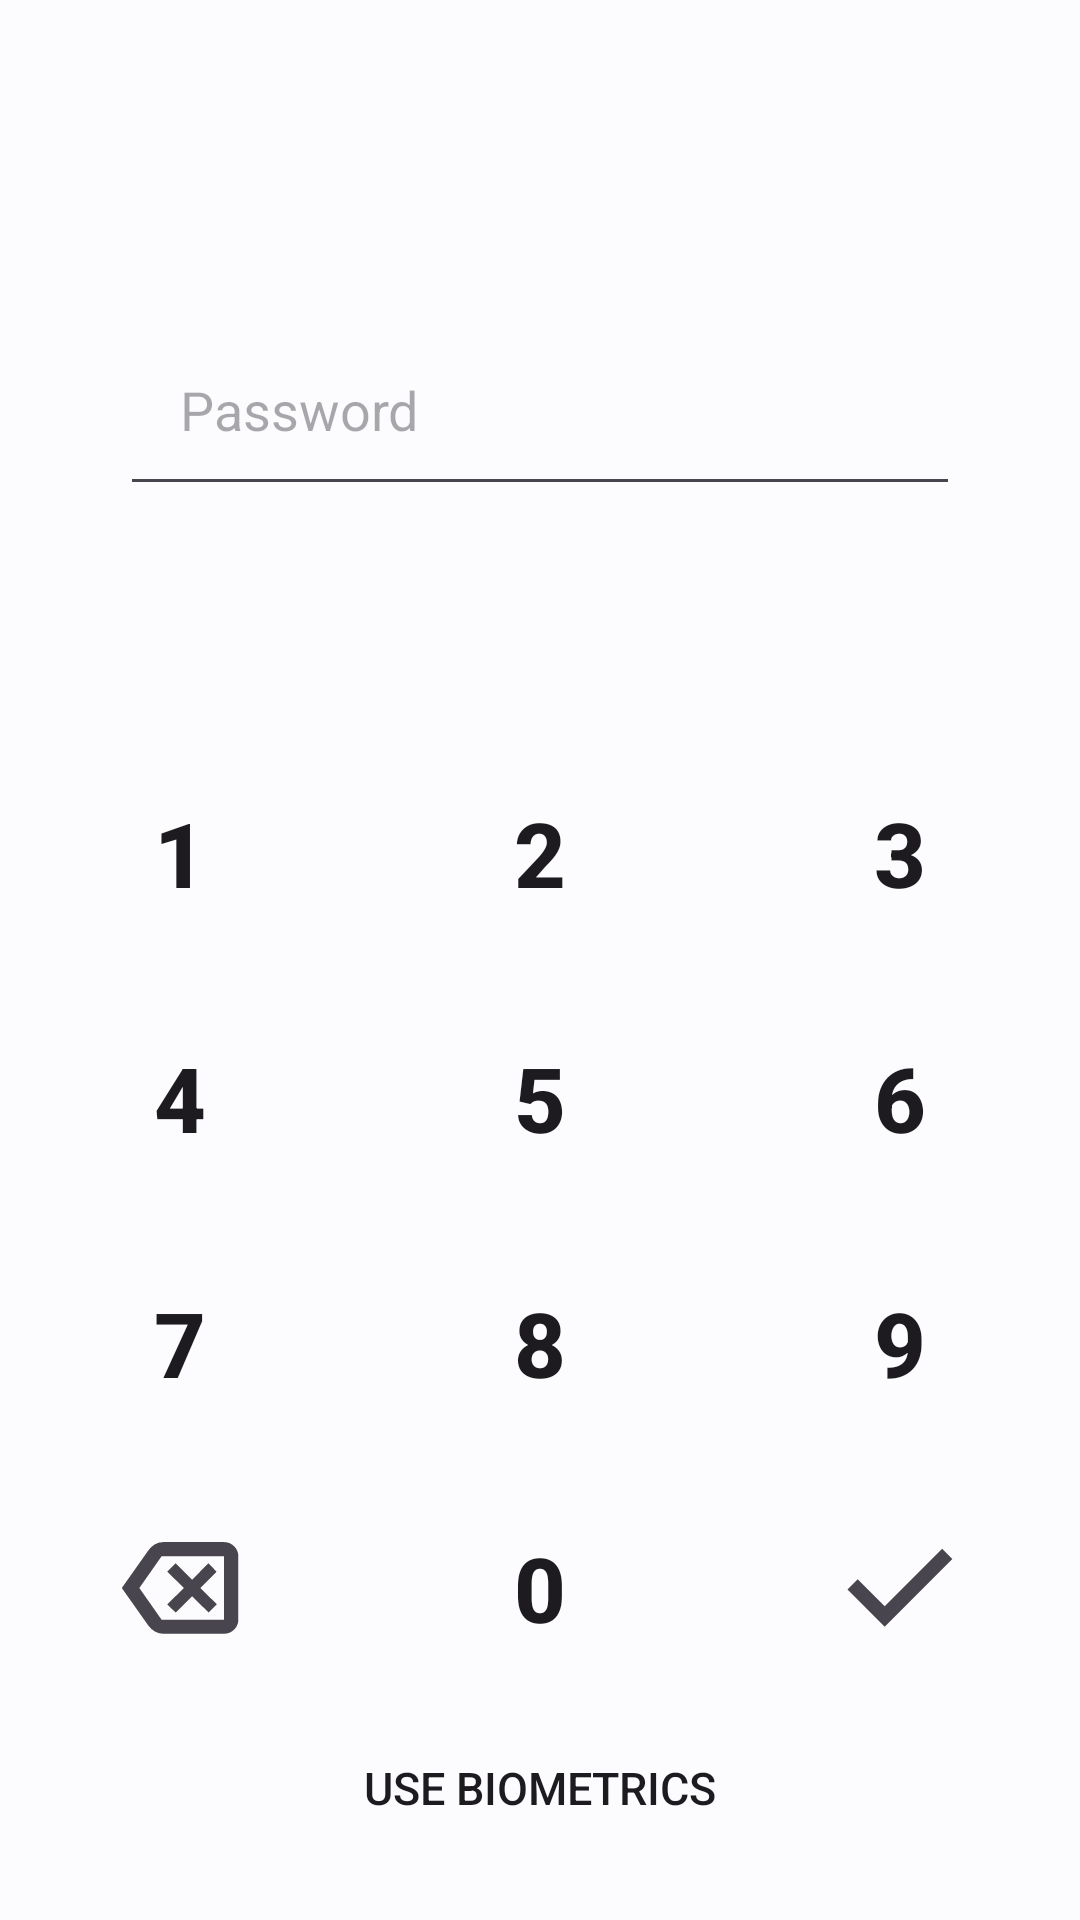

Where icons sit on this 1080w x 1920h app screen, as (x1, y1, x2, y2):
backspace: (122, 1542, 239, 1634)
done: (847, 1549, 952, 1627)
